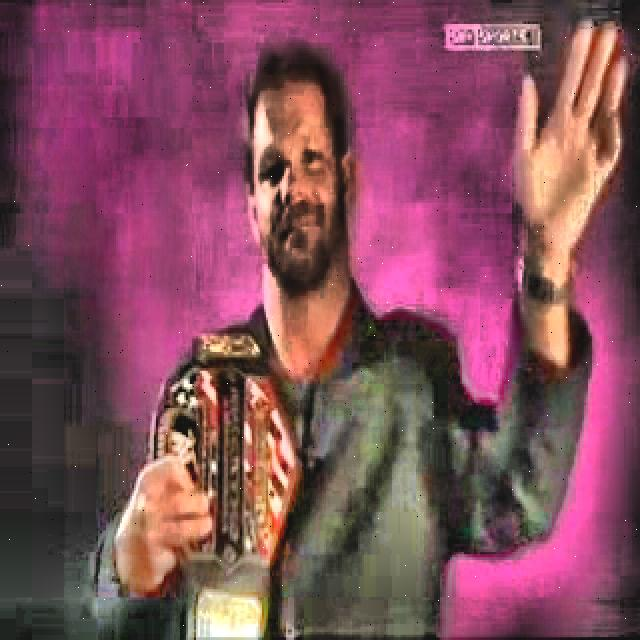L: (84, 31, 614, 637)
